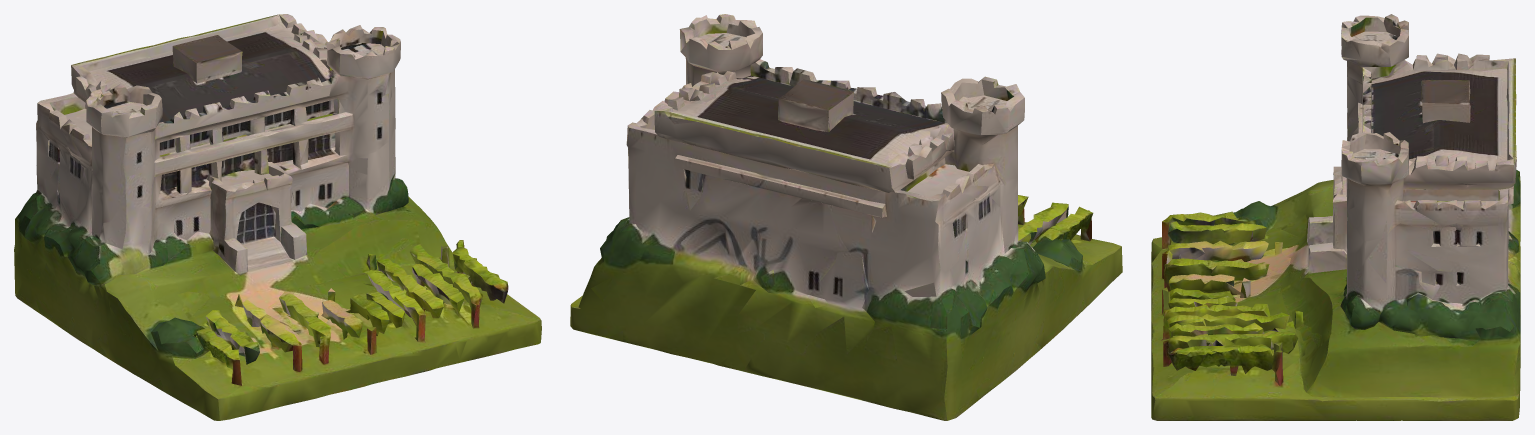
Rendered from ikeda-wine-castle.glb.
The picture shows the model from 3 angles, left to right: view 1: azimuth 30°, elevation 25°; view 2: azimuth 150°, elevation 25°; view 3: azimuth 270°, elevation 25°; orthographic projection. The views are drawn at different scales.
Visible parts, largest first — view 1: logan-textured.obj; view 2: logan-textured.obj; view 3: logan-textured.obj.
Part boxes in pixels (x1=…): logan-textured.obj: x1=14, y1=14, x2=541, y2=420; logan-textured.obj: x1=570, y1=14, x2=1122, y2=420; logan-textured.obj: x1=1151, y1=14, x2=1520, y2=420.
Size of the model in its own units: 1 by 0.6379 by 0.8871.
Materials: 1 (1 with a texture image).
